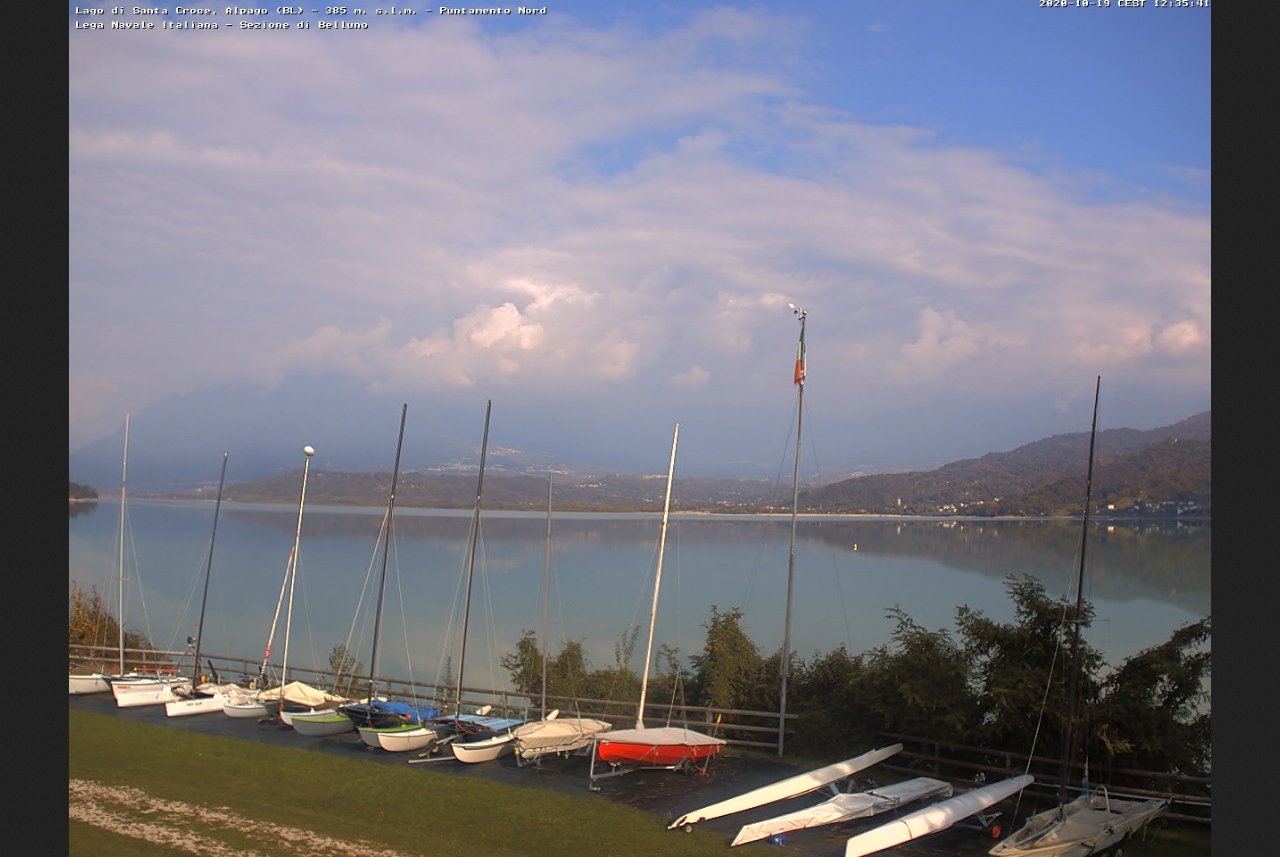no: (790, 307, 813, 393)
